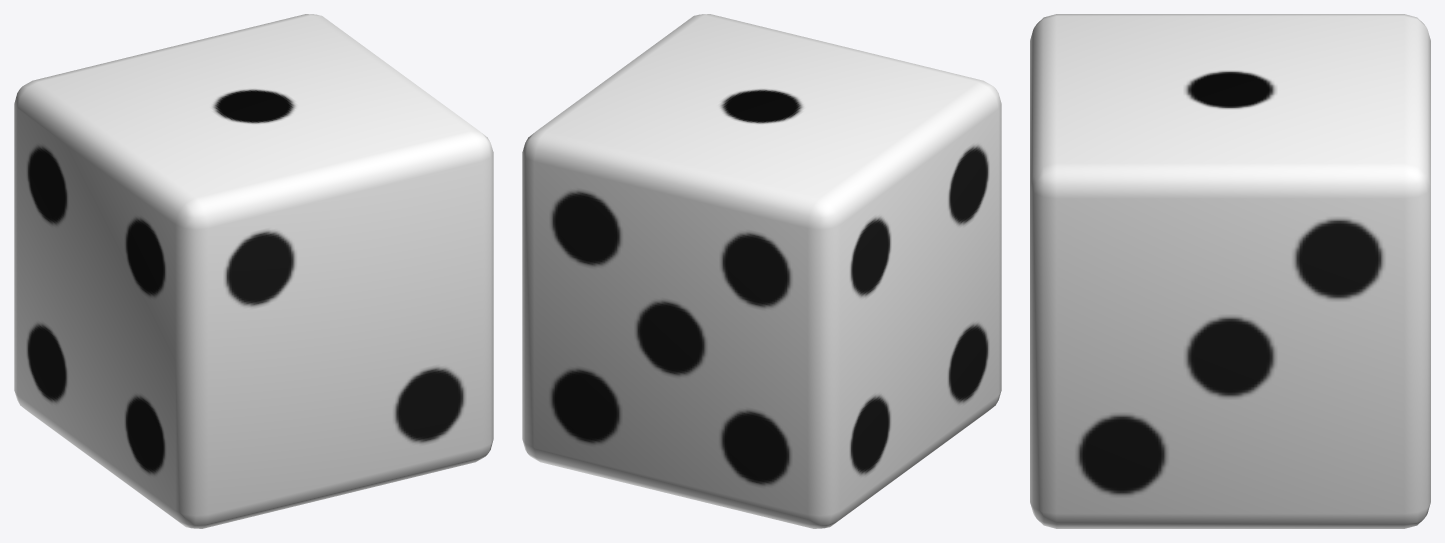
The model's file is Die.glb.
3 renders of one model, left to right at view 1: azimuth 30°, elevation 25°; view 2: azimuth 150°, elevation 25°; view 3: azimuth 270°, elevation 25°, orthographic. The views are drawn at different scales.
Visible parts, largest first — view 1: Die; view 2: Die; view 3: Die.
Part boxes in pixels (x1=…): Die: x1=14, y1=14, x2=493, y2=528; Die: x1=522, y1=14, x2=1001, y2=528; Die: x1=1030, y1=14, x2=1430, y2=528.
Size of the model in its own units: 2 by 2 by 2.
1 material, 1 textured.
